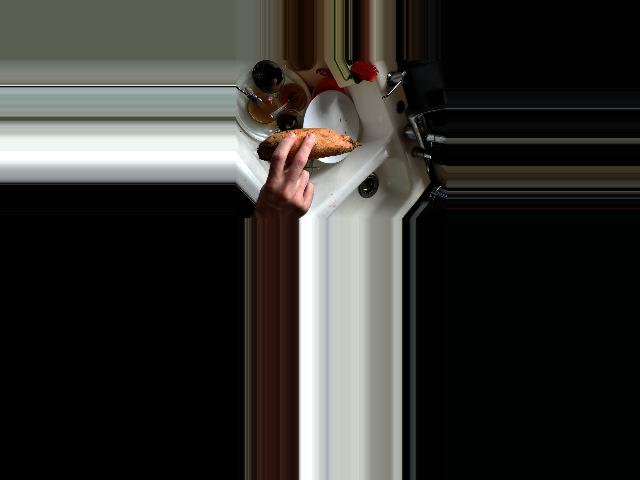sweet_potato: (253, 129, 366, 167)
